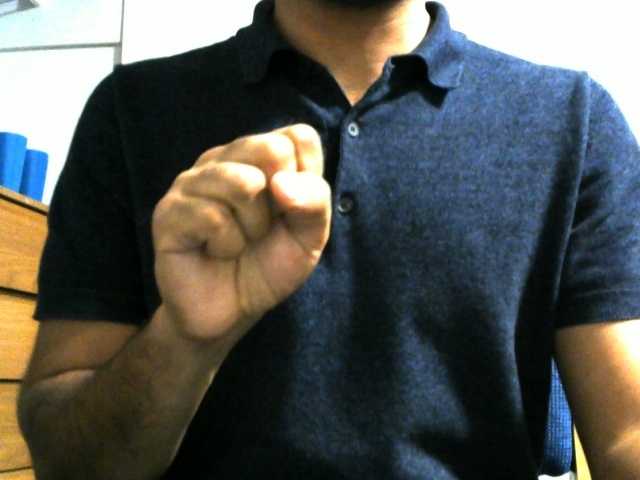S: (148, 117, 341, 336)
